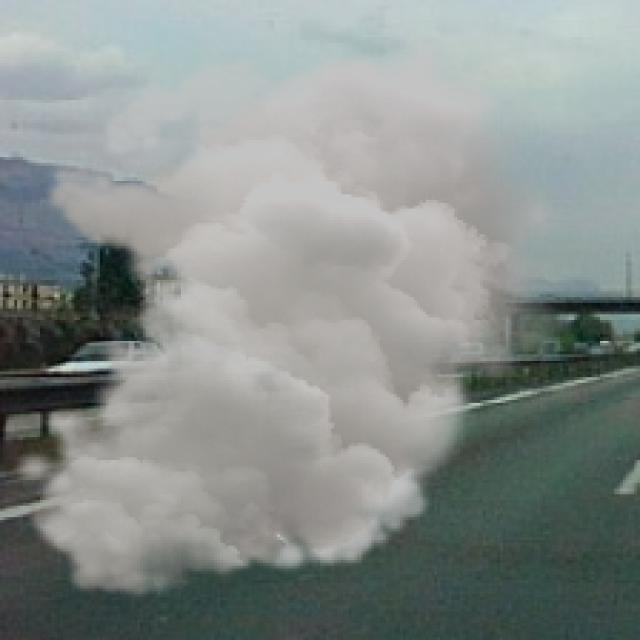smoke: (9, 40, 577, 600)
